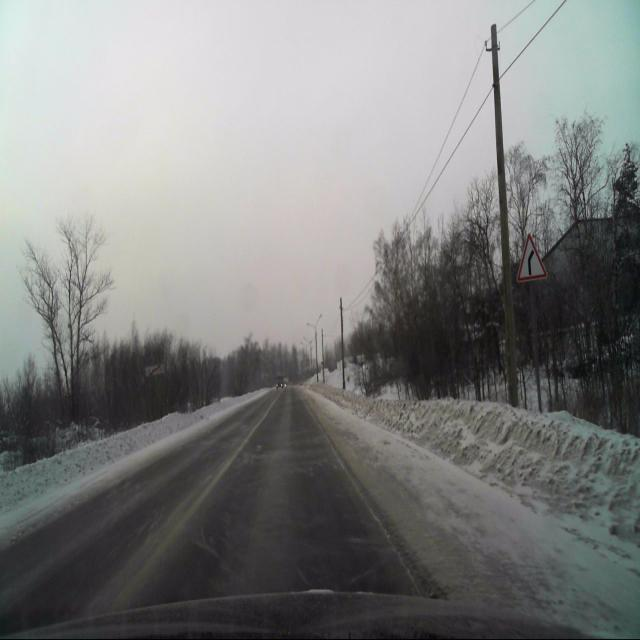object: (531, 285, 543, 415)
road sign: (514, 232, 546, 283)
